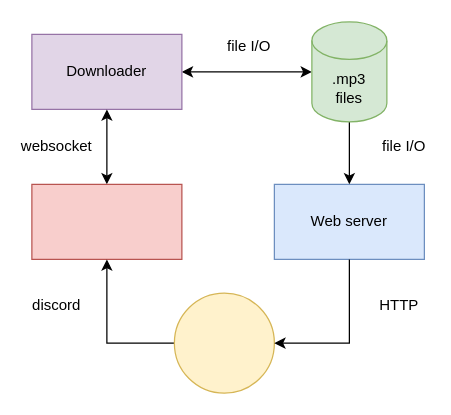
Image size: 451x415. Some labels were removed from this diagram. Each missing label, with the box of its shape:
Clients: (173, 292, 274, 393)
Discord bot: (31, 183, 182, 259)
